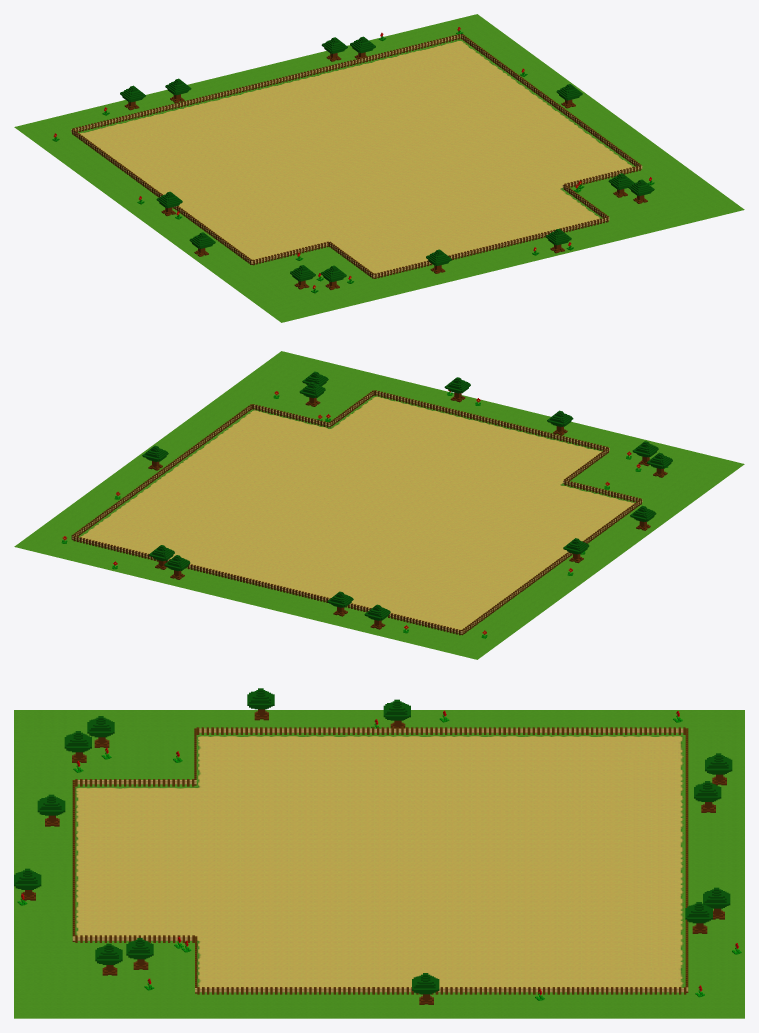
The model's file is Map1.fbx.
3 views of the same model, one above another, from view 1: azimuth 30°, elevation 25°; view 2: azimuth 150°, elevation 25°; view 3: azimuth 270°, elevation 25° (orthographic). The views are drawn at different scales.
Parts seen in each view (by area): view 1: pPlane1, fence101; view 2: pPlane1, fence101; view 3: pPlane1, fence101, Tree8, Tree11, Tree1, Tree2, Tree, Tree5, Tree6, Tree3, Tree10, Tree9 (+3 smaller).
Boxes of the visible parts, bbox=[...] form: pPlane1: bbox=[14, 14, 744, 322]; fence101: bbox=[71, 34, 642, 278]; pPlane1: bbox=[14, 351, 744, 659]; fence101: bbox=[71, 390, 642, 635]; pPlane1: bbox=[14, 710, 744, 1018]; fence101: bbox=[72, 727, 688, 994]; Tree8: bbox=[685, 902, 712, 933]; Tree11: bbox=[37, 794, 65, 826]; Tree1: bbox=[95, 943, 122, 975]; Tree2: bbox=[87, 716, 114, 747]; Tree: bbox=[126, 938, 153, 969]; Tree5: bbox=[247, 688, 274, 720]; Tree6: bbox=[412, 973, 439, 1004]; Tree3: bbox=[64, 731, 91, 762]; Tree10: bbox=[694, 781, 721, 812]; Tree9: bbox=[705, 753, 732, 785].
Size of the model in its own units: 6000 by 255 by 6000.
